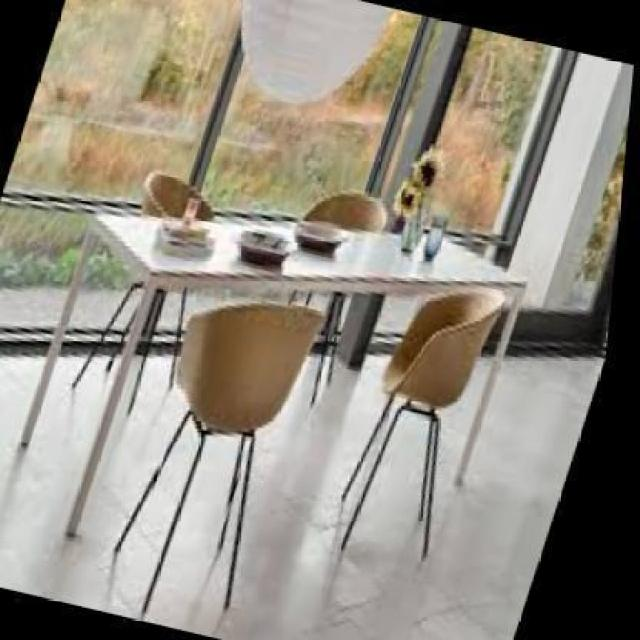tables: (41, 209, 528, 540)
